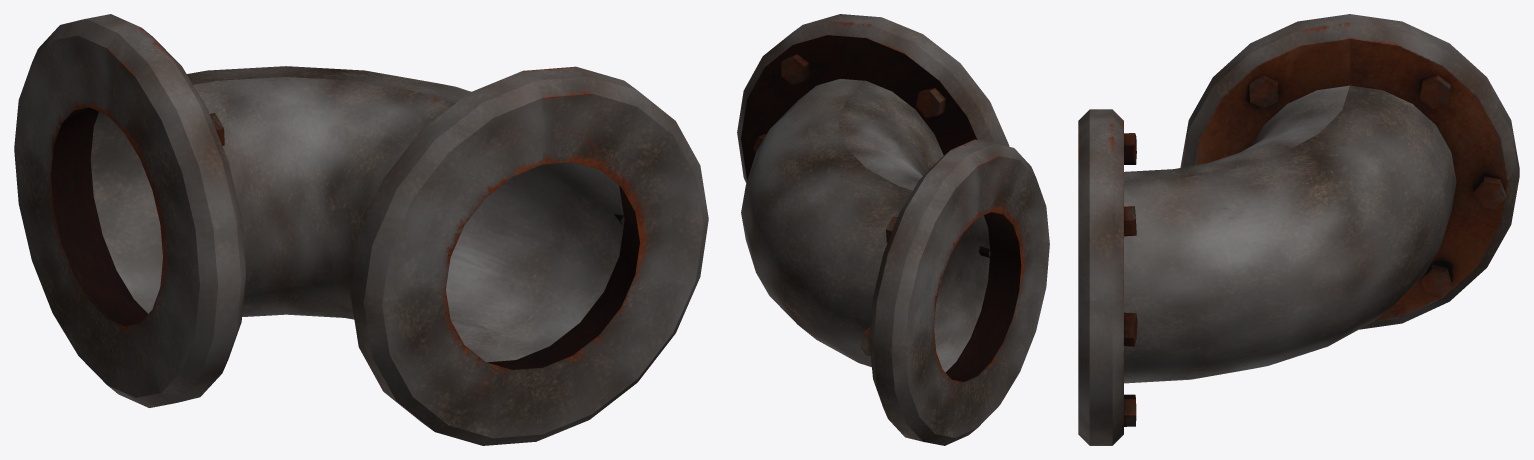
Rendered from metalpipecurve.fbx.
3 views of the same model, side by side, from view 1: azimuth 30°, elevation 25°; view 2: azimuth 150°, elevation 25°; view 3: azimuth 270°, elevation 25° (orthographic). The views are drawn at different scales.
Parts seen in each view (by area): view 1: metalpipe.002; view 2: metalpipe.002; view 3: metalpipe.002.
Part boxes in pixels (<box>): metalpipe.002: <box>14,14,708,445</box>; metalpipe.002: <box>737,14,1049,445</box>; metalpipe.002: <box>1078,14,1519,445</box>.
Size of the model in its own units: 1.95 by 1.5 by 1.95.
